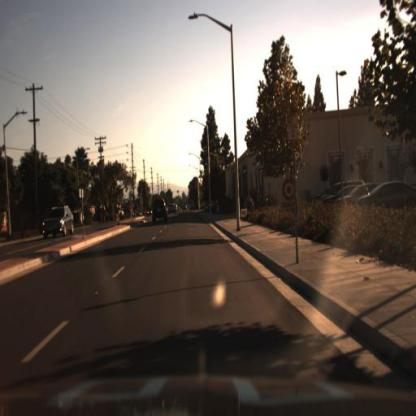car: (355, 180, 416, 212), (41, 204, 74, 240), (340, 184, 374, 210), (152, 197, 173, 228), (150, 199, 170, 226), (166, 199, 179, 217)
